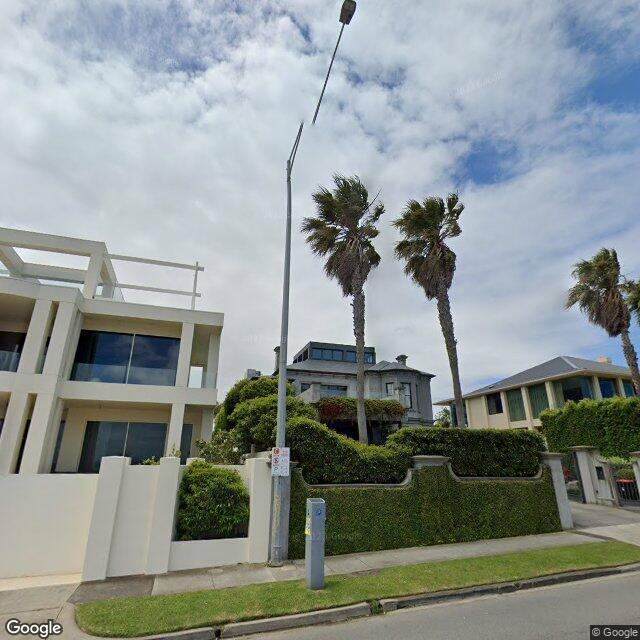steel-pole: (270, 160, 292, 568)
streetlight: (288, 0, 357, 177)
